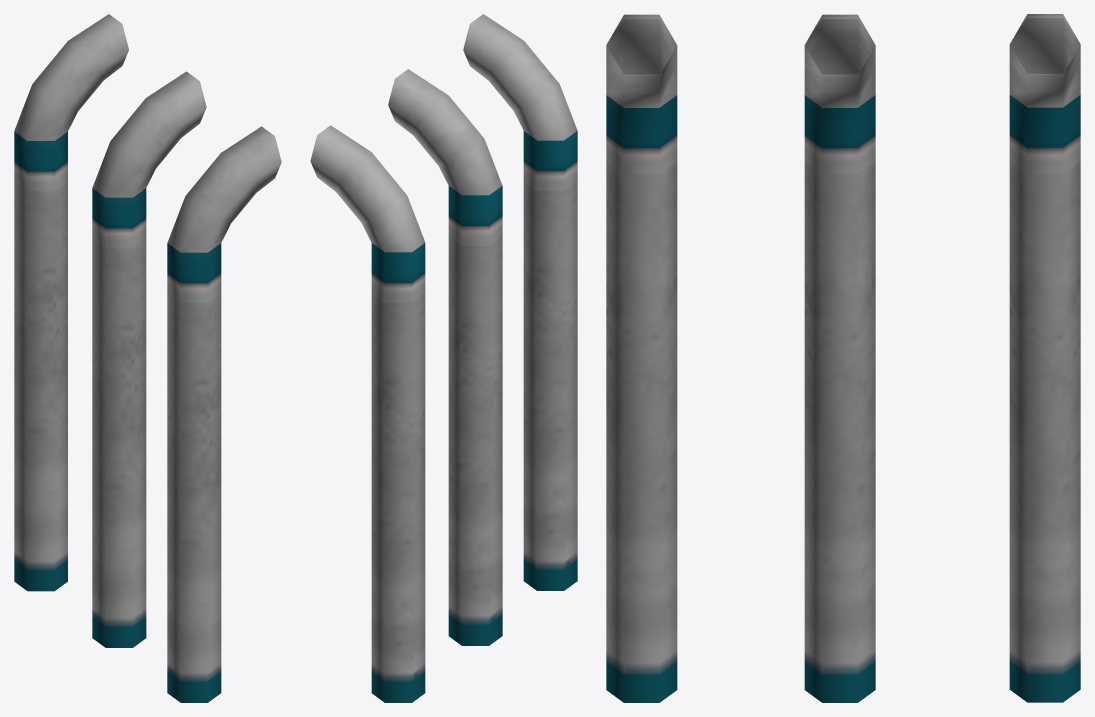
Rendered from CP_Pipe_A_End.fbx.
3 renders of one model, left to right at view 1: azimuth 30°, elevation 25°; view 2: azimuth 150°, elevation 25°; view 3: azimuth 270°, elevation 25°, orthographic. The views are drawn at different scales.
Visible parts, largest first — view 1: CP_Pipe_A_End; view 2: CP_Pipe_A_End; view 3: CP_Pipe_A_End.
Boxes of the visible parts, x1,y1,x2,y2 form: CP_Pipe_A_End: (14,14,281,702); CP_Pipe_A_End: (310,14,577,702); CP_Pipe_A_End: (606,14,1080,702).
Size of the model in its own units: 11.66 by 64.04 by 38.29.
